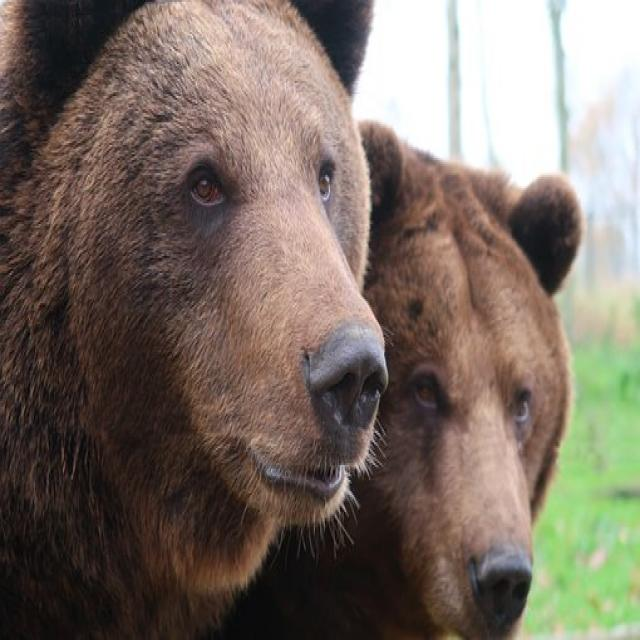Bear: (238, 128, 584, 640)
